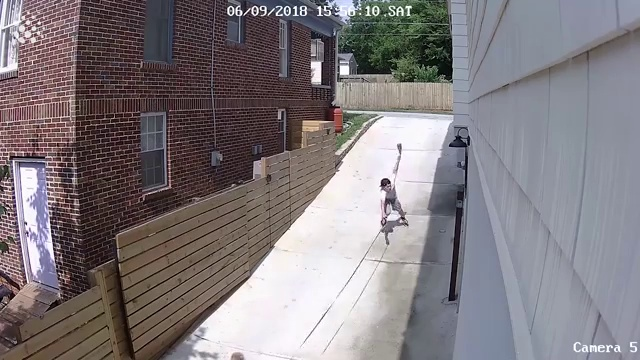face: (384, 182, 391, 191)
